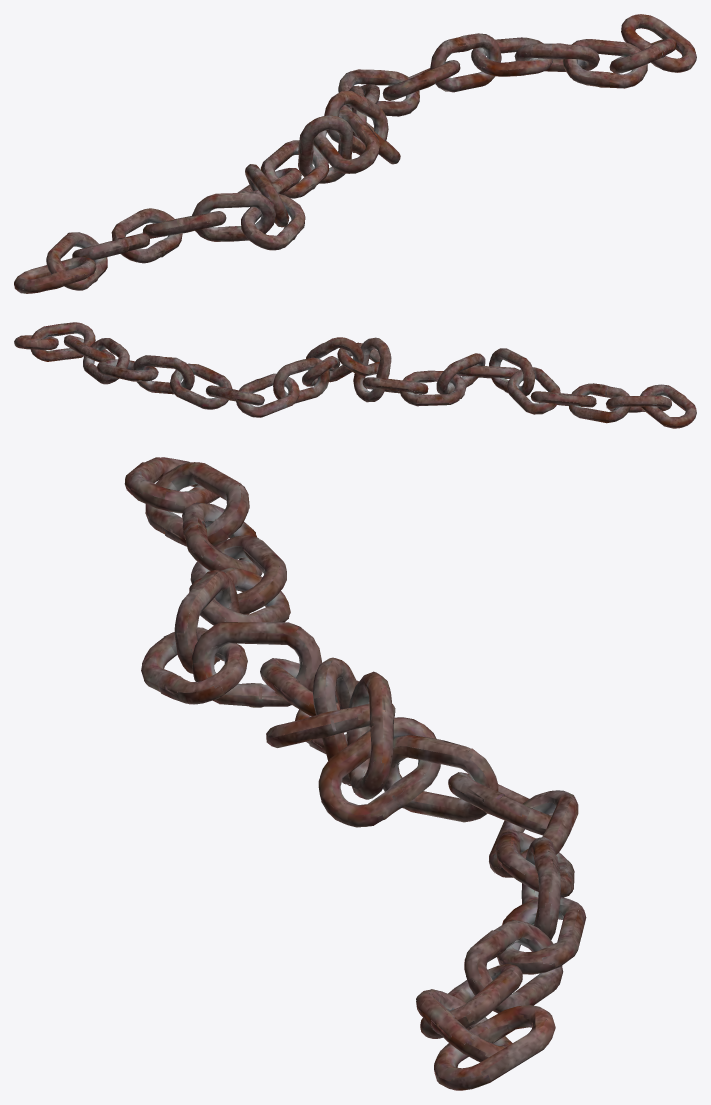
Rendered from s_cadena.glb.
3 views of the same model, one above another, from view 1: azimuth 30°, elevation 25°; view 2: azimuth 150°, elevation 25°; view 3: azimuth 270°, elevation 25° (orthographic). The views are drawn at different scales.
Visible parts, largest first — view 1: defaultMaterial; view 2: defaultMaterial; view 3: defaultMaterial.
Part boxes in pixels (x1,y1,x2,y2): defaultMaterial: (14,14,696,293); defaultMaterial: (14,322,696,428); defaultMaterial: (124,457,586,1090).
Size of the model in its own units: 1.5 by 0.156 by 0.4988.
1 material, 1 textured.
